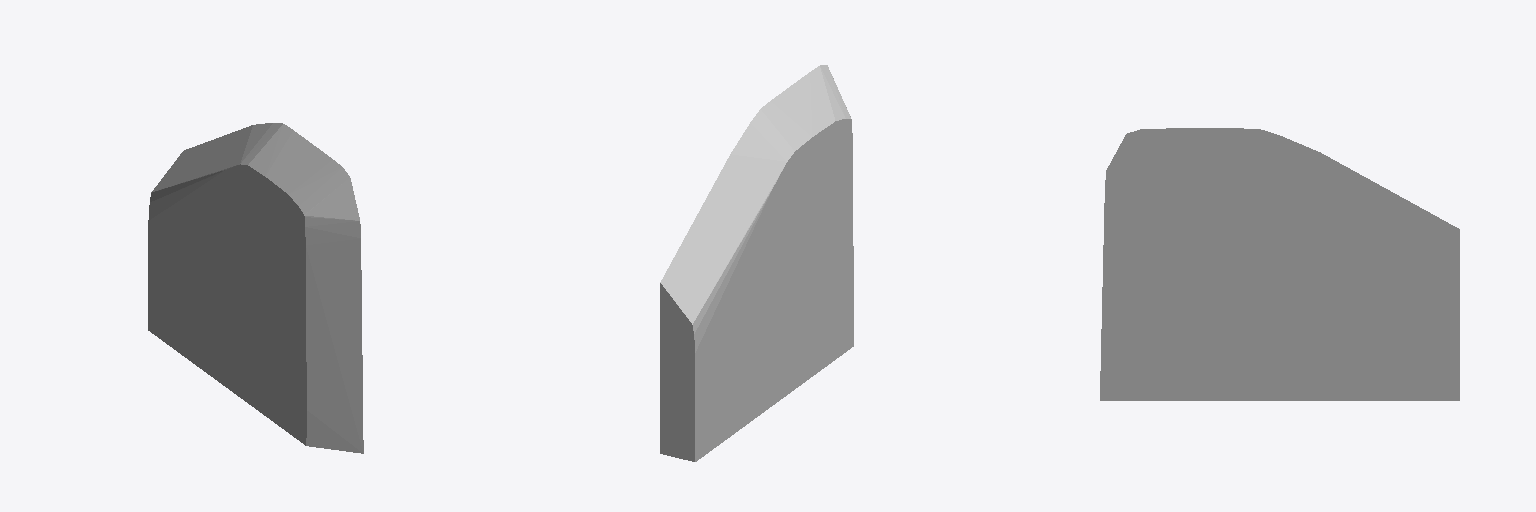
File: ShipScene_collision_39.obj
The picture shows the model from 3 angles: view 1: azimuth 30°, elevation 25°; view 2: azimuth 150°, elevation 25°; view 3: azimuth 270°, elevation 25°; orthographic projection.
Bounding box in the file's own units: 10.25 × 75.99 × 91.13.